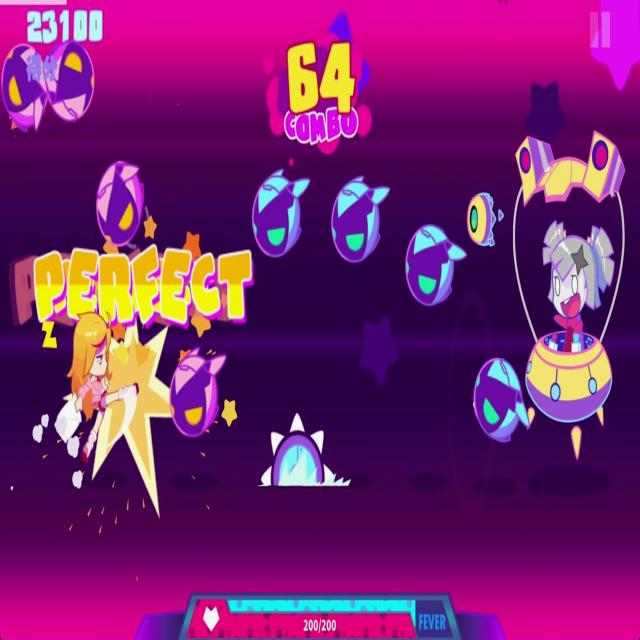ci: (264, 418, 358, 486)
jiqiqiu: (45, 29, 103, 133), (88, 144, 146, 248), (328, 168, 392, 262), (470, 353, 532, 449), (251, 166, 309, 256), (170, 350, 228, 438), (408, 221, 467, 301), (2, 46, 46, 134)
qiangboss: (472, 113, 628, 461)
